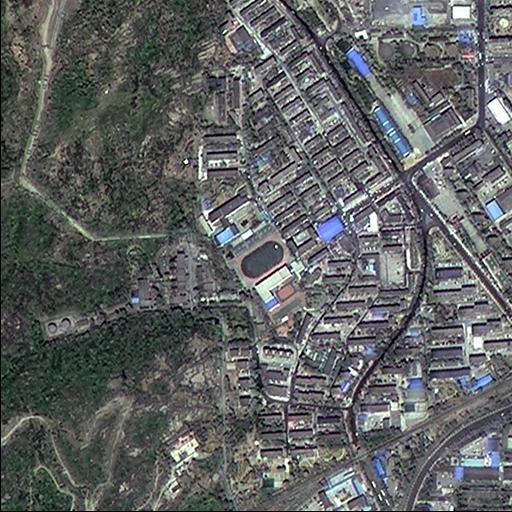school: (204, 188, 305, 329)
